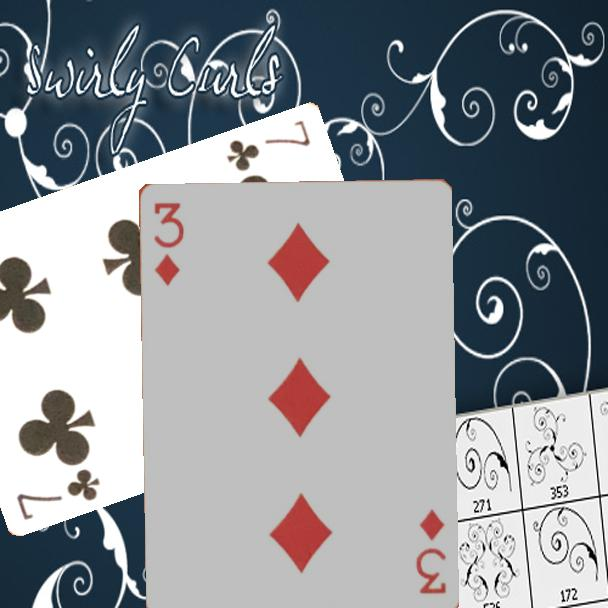c07: (223, 115, 314, 174), (13, 464, 104, 523)
d03: (411, 506, 449, 597), (150, 198, 186, 288)
